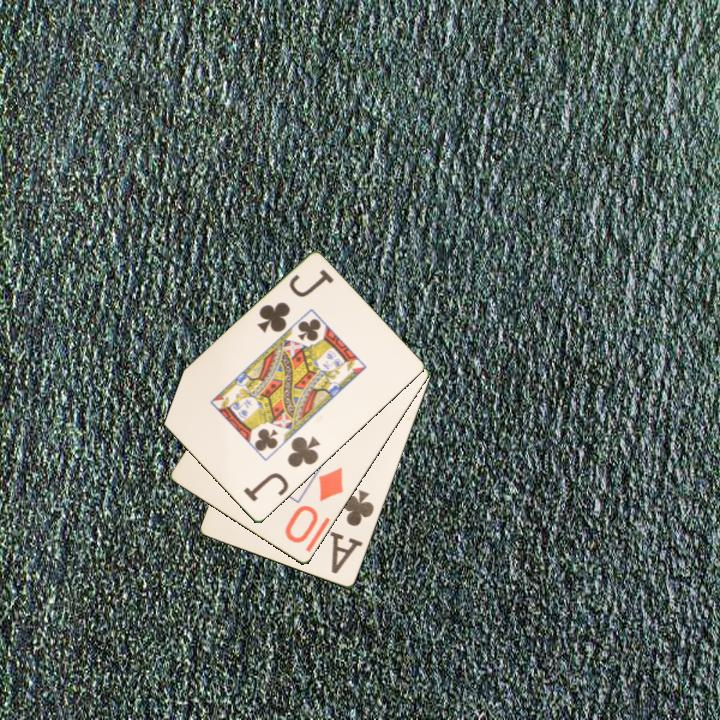10d: (281, 464, 347, 547)
Ac: (327, 486, 377, 577)
Jc: (240, 433, 323, 505), (254, 266, 337, 336)
